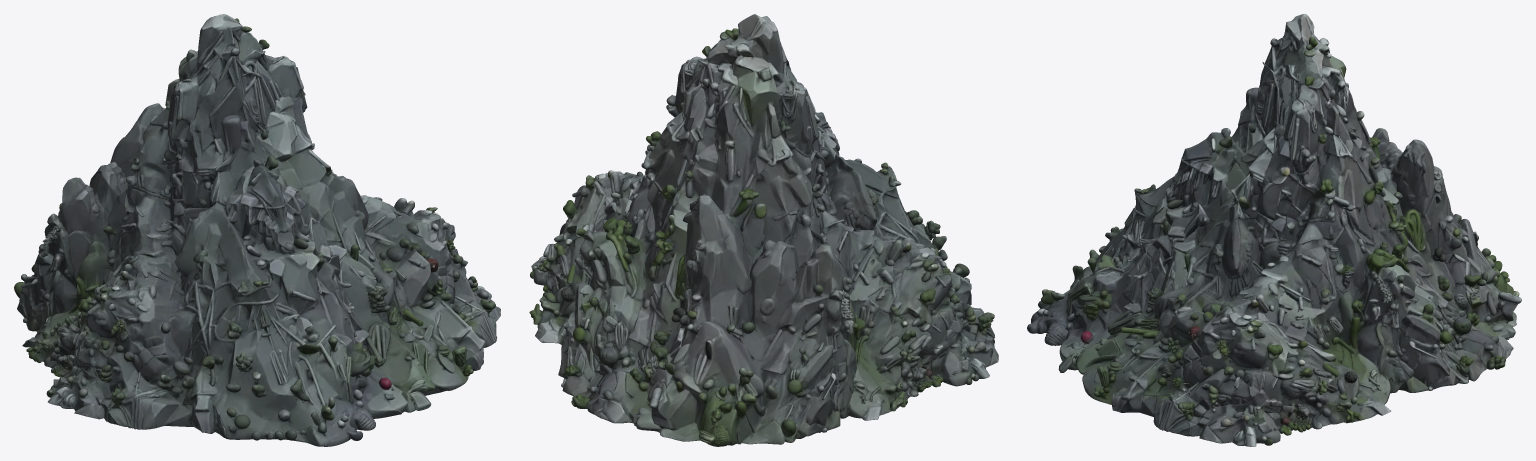
The model's file is mountain-range.glb.
3 views of the same model, side by side, from view 1: azimuth 30°, elevation 25°; view 2: azimuth 150°, elevation 25°; view 3: azimuth 270°, elevation 25° (orthographic). The views are drawn at different scales.
Visible parts, largest first — view 1: tripo_node_1e327221-ffe8-492f-93eb-e5182bdfb406; view 2: tripo_node_1e327221-ffe8-492f-93eb-e5182bdfb406; view 3: tripo_node_1e327221-ffe8-492f-93eb-e5182bdfb406.
Part boxes in pixels (<box>): tripo_node_1e327221-ffe8-492f-93eb-e5182bdfb406: <box>14,14,500,446</box>; tripo_node_1e327221-ffe8-492f-93eb-e5182bdfb406: <box>529,14,998,446</box>; tripo_node_1e327221-ffe8-492f-93eb-e5182bdfb406: <box>1027,14,1521,446</box>.
Bounding box in the file's own units: 0.981 × 0.687 × 0.9696.
Materials: 1 (1 with a texture image).
